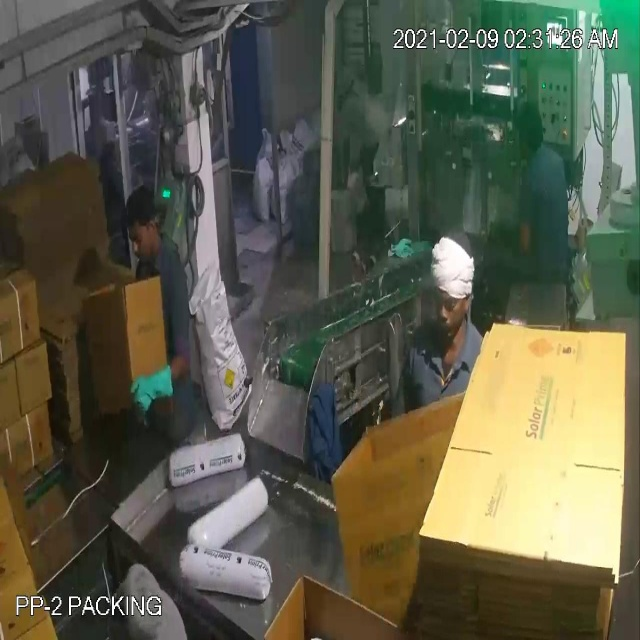Guantes: (125, 353, 185, 424)
